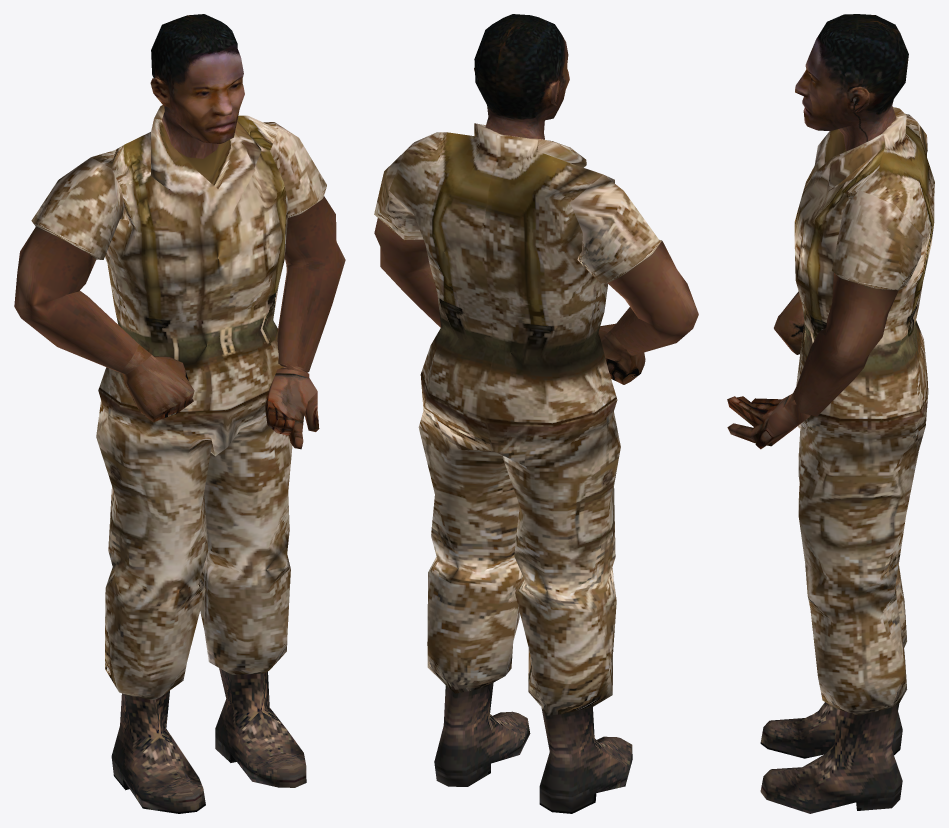
File: HERO03_JONES.glb
The picture shows the model from 3 angles, left to right: view 1: azimuth 30°, elevation 25°; view 2: azimuth 150°, elevation 25°; view 3: azimuth 270°, elevation 25°; orthographic projection.
Visible parts, largest first — view 1: NEWSKIN; view 2: NEWSKIN; view 3: NEWSKIN.
Part boxes in pixels (x1=…): NEWSKIN: x1=14, y1=14, x2=345, y2=813; NEWSKIN: x1=374, y1=14, x2=698, y2=813; NEWSKIN: x1=727, y1=14, x2=934, y2=813.
Bounding box in the file's own units: 0.7748 × 1.77 × 0.4401.
1 material, 1 textured.
